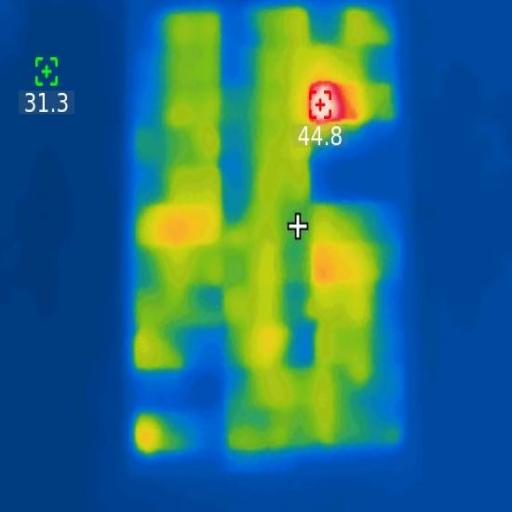hotspot: (309, 80, 349, 125)
